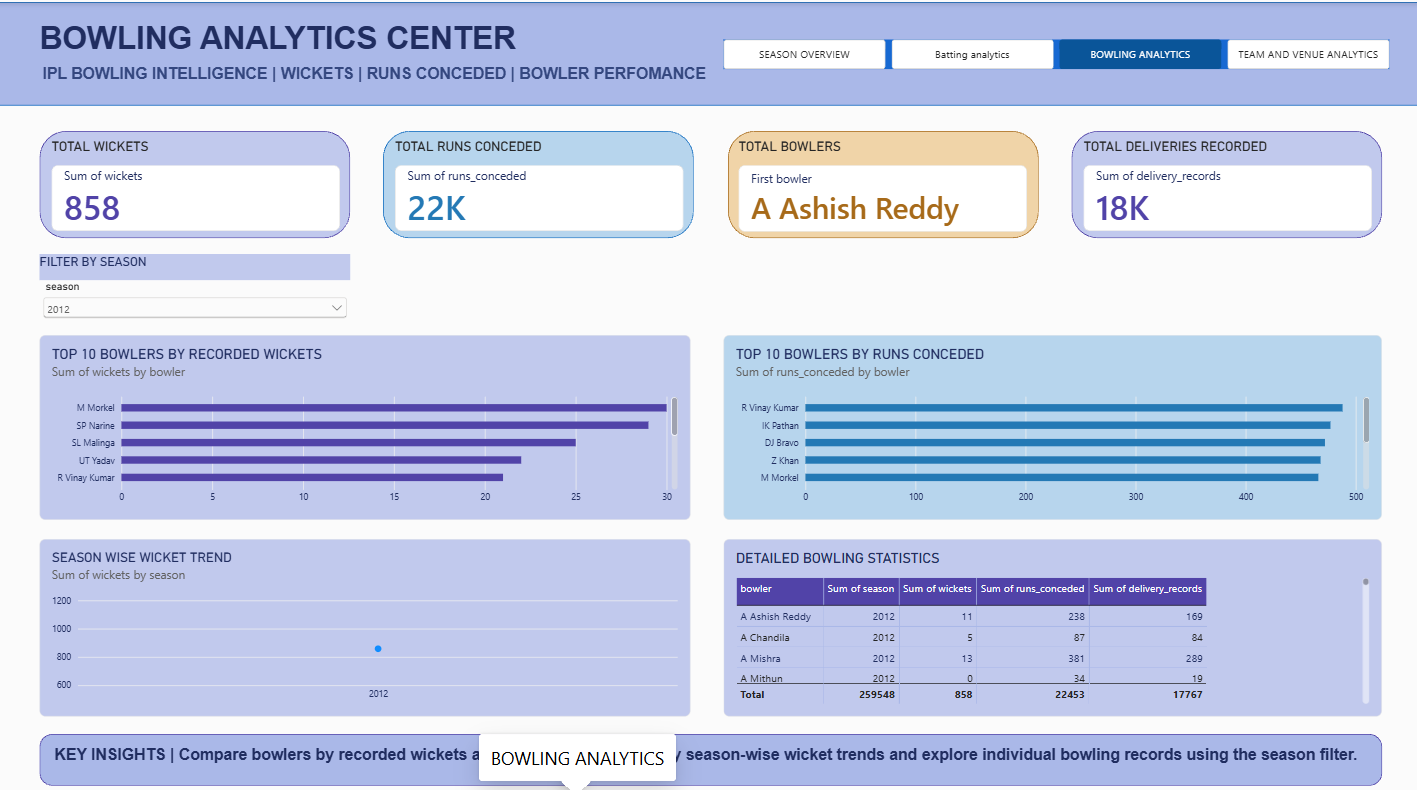

Layout of this report page (visuals, bound fields, positions):
{"tool":"powerbi","page":{"name":"BOWLING ANALYTICS","canvas":[1920,1080],"ordinal":2},"visuals":[{"type":"shape","box":[0,0,1920,140],"z":0},{"type":"textbox","box":[55,25,1100,55],"z":1000},{"type":"textbox","box":[58,85,1100,30],"z":2000},{"type":"shape","box":[55,175,420,145],"z":3000},{"type":"cardVisual","title":"TOTAL WICKETS","fields":{"Data":["Sum(gold_bowling_stats.wickets)"]},"box":[70,185,390,125],"z":4000},{"type":"shape","box":[520,175,420,145],"z":5000},{"type":"cardVisual","title":"TOTAL RUNS CONCEDED","fields":{"Data":["Sum(gold_bowling_stats.runs_conceded)"]},"box":[535,185,390,125],"z":6000},{"type":"shape","box":[985,175,420,145],"z":7000},{"type":"cardVisual","title":"TOTAL BOWLERS","fields":{"Data":["Min(gold_bowling_stats.bowler)"]},"box":[1000,185,390,126],"z":8000},{"type":"shape","box":[1450,175,420,145],"z":9000},{"type":"cardVisual","title":"TOTAL DELIVERIES RECORDED","fields":{"Data":["Sum(gold_bowling_stats.delivery_records)"]},"box":[1465,185,390,125],"z":10000},{"type":"slicer","title":"FILTER BY SEASON","fields":{"Values":["gold_bowling_stats.season"]},"box":[55,340,420,89],"z":11000},{"type":"clusteredBarChart","title":"TOP 10 BOWLERS BY RECORDED WICKETS","fields":{"Category":["gold_bowling_stats.bowler"],"Y":["Sum(gold_bowling_stats.wickets)"]},"box":[55,450,880,250],"z":12000},{"type":"clusteredBarChart","title":"TOP 10 BOWLERS BY RUNS CONCEDED","fields":{"Category":["gold_bowling_stats.bowler"],"Y":["Sum(gold_bowling_stats.runs_conceded)"]},"box":[980,450,890,250],"z":13000},{"type":"lineChart","title":"SEASON WISE WICKET TREND","fields":{"Category":["gold_bowling_stats.season"],"Y":["Sum(gold_bowling_stats.wickets)"]},"box":[55,725,880,240],"z":14000},{"type":"tableEx","title":"DETAILED BOWLING STATISTICS","fields":{"Values":["gold_bowling_stats.bowler","Sum(gold_bowling_stats.season)","Sum(gold_bowling_stats.wickets)","Sum(gold_bowling_stats.runs_conceded)","Sum(gold_bowling_stats.delivery_records)"]},"box":[980,725,890,240],"z":15000},{"type":"shape","box":[55,990,1815,70],"z":16000},{"type":"textbox","box":[75,1005,1775,45],"z":17000},{"type":"pageNavigator","box":[980,50,900,40],"z":17001}]}

Visuals, with their boxes in screenshot pixels (x1, y1, x2, y2), scaled from the page's 1920x1080 canvas onto the 1417x790 screenshot:
shape: bbox(0, 0, 1416, 102)
textbox: bbox(41, 18, 852, 59)
textbox: bbox(43, 62, 855, 84)
shape: bbox(41, 128, 351, 234)
"TOTAL WICKETS" cardVisual: bbox(52, 135, 339, 227)
shape: bbox(384, 128, 694, 234)
"TOTAL RUNS CONCEDED" cardVisual: bbox(395, 135, 683, 227)
shape: bbox(727, 128, 1037, 234)
"TOTAL BOWLERS" cardVisual: bbox(738, 135, 1026, 227)
shape: bbox(1070, 128, 1380, 234)
"TOTAL DELIVERIES RECORDED" cardVisual: bbox(1081, 135, 1369, 227)
"FILTER BY SEASON" slicer: bbox(41, 249, 351, 314)
"TOP 10 BOWLERS BY RECORDED WICKETS" clusteredBarChart: bbox(41, 329, 690, 512)
"TOP 10 BOWLERS BY RUNS CONCEDED" clusteredBarChart: bbox(723, 329, 1380, 512)
"SEASON WISE WICKET TREND" lineChart: bbox(41, 530, 690, 706)
"DETAILED BOWLING STATISTICS" tableEx: bbox(723, 530, 1380, 706)
shape: bbox(41, 724, 1380, 775)
textbox: bbox(55, 735, 1365, 768)
pageNavigator: bbox(723, 37, 1387, 66)
